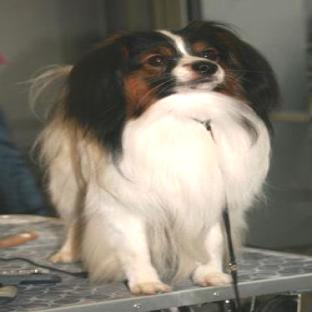Animal: (34, 22, 280, 294)
